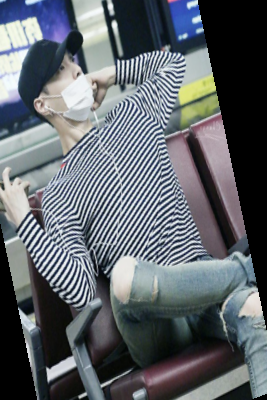mask_weared_incorrect: (14, 29, 108, 134)
